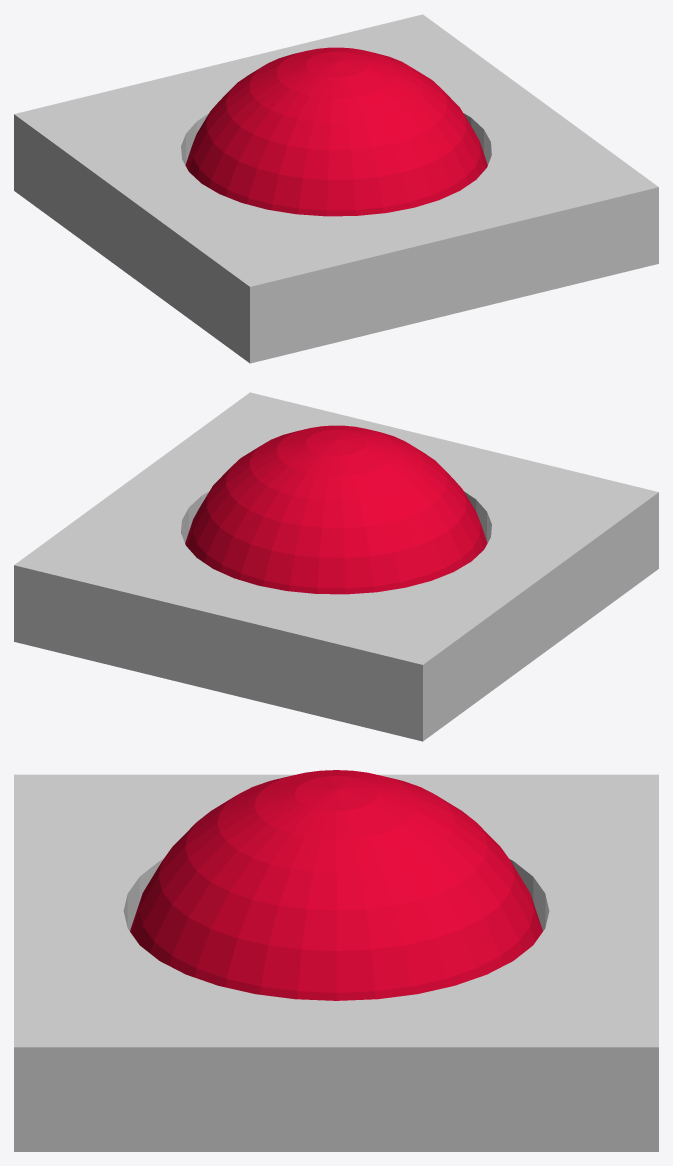
Rendered from textured push button.fbx.
The picture shows the model from 3 angles, top to bottom: view 1: azimuth 30°, elevation 25°; view 2: azimuth 150°, elevation 25°; view 3: azimuth 270°, elevation 25°; orthographic projection. The views are drawn at different scales.
Visible parts, largest first — view 1: Cube, Sphere; view 2: Cube, Sphere; view 3: Cube, Sphere.
Part boxes in pixels (bbox=[...]): Cube: bbox=[14, 14, 658, 363]; Sphere: bbox=[185, 47, 487, 216]; Cube: bbox=[14, 392, 658, 741]; Sphere: bbox=[185, 425, 487, 594]; Cube: bbox=[14, 774, 658, 1151]; Sphere: bbox=[130, 770, 542, 1000].
Size of what is drawn, in the model's own units: 486 by 188 by 486.
